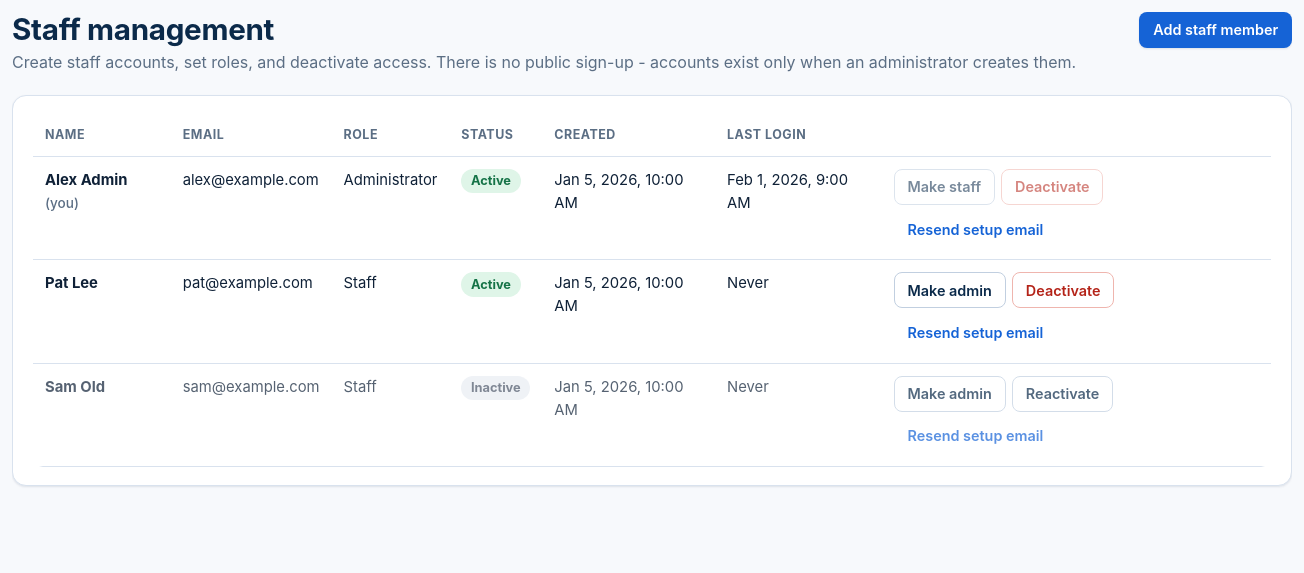
Test case: staff management (admin only page) › changes a role after confirmation
The width and height of the screenshot is (1304, 573).
Expected: the text "Pat Lee" is shown, x1=45 y1=274 x2=98 y2=292
Step 1. Click the button "Make admin" in the row of "Pat Lee" → [950, 290], box x1=894 y1=272 x2=1006 y2=308
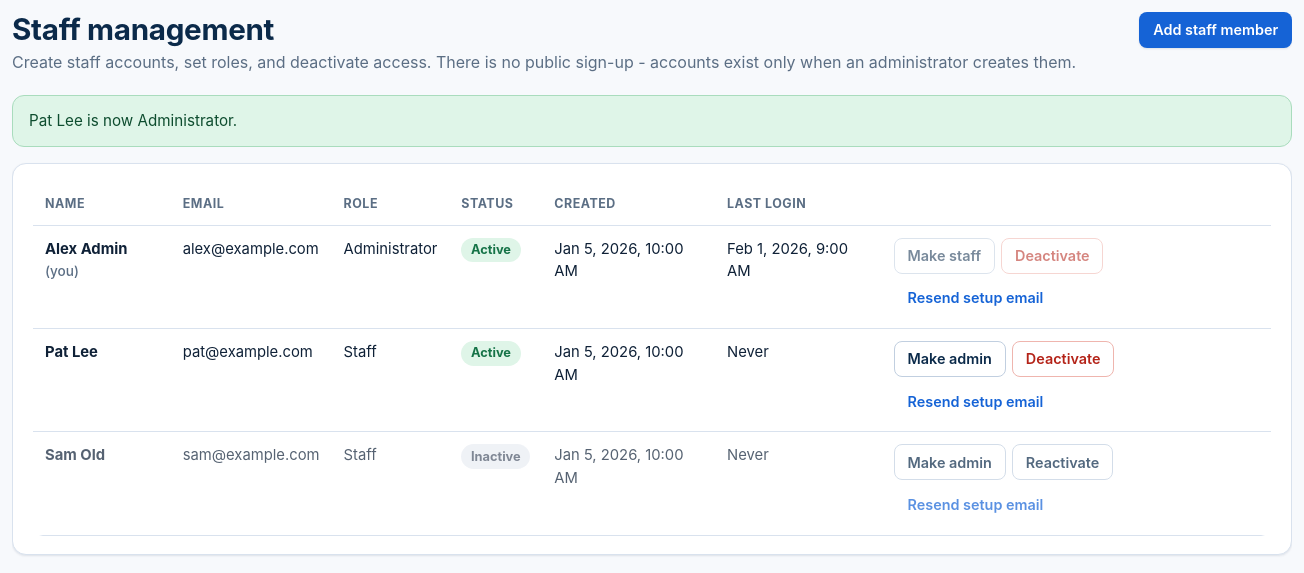
Expected: the text "Pat Lee is now Administrator." is shown, x1=29 y1=109 x2=237 y2=133
